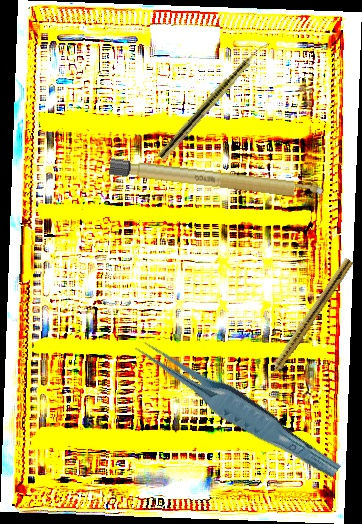Handpiece: (156, 35, 273, 163), (261, 255, 354, 386)
Scalpel Handle: (108, 157, 325, 203)
Tissue Forceps: (132, 322, 343, 494)
